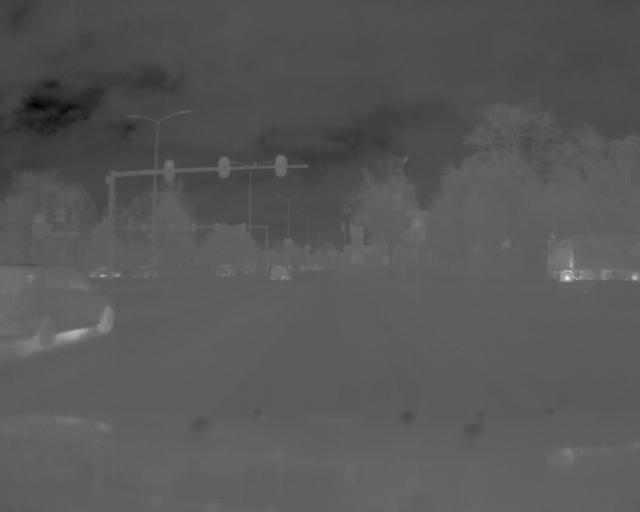car: (2, 262, 116, 345), (86, 262, 124, 279), (130, 262, 161, 282), (268, 262, 293, 282), (213, 262, 236, 280)
